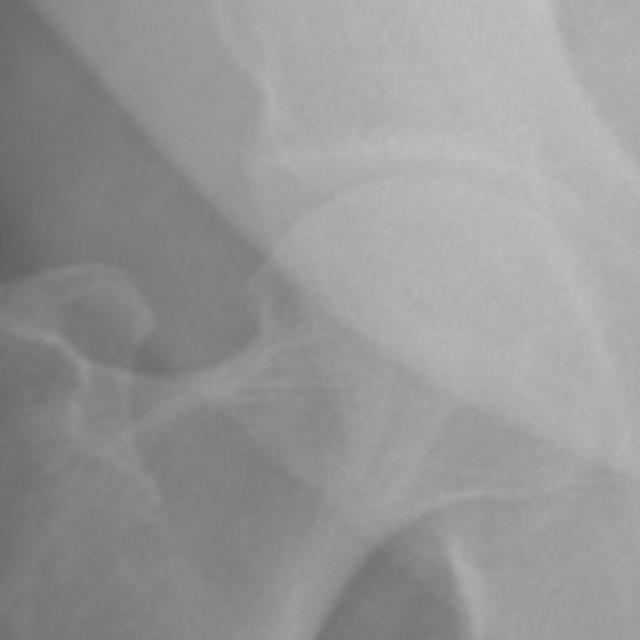Fitted_femural_head: (351, 172, 432, 351)
